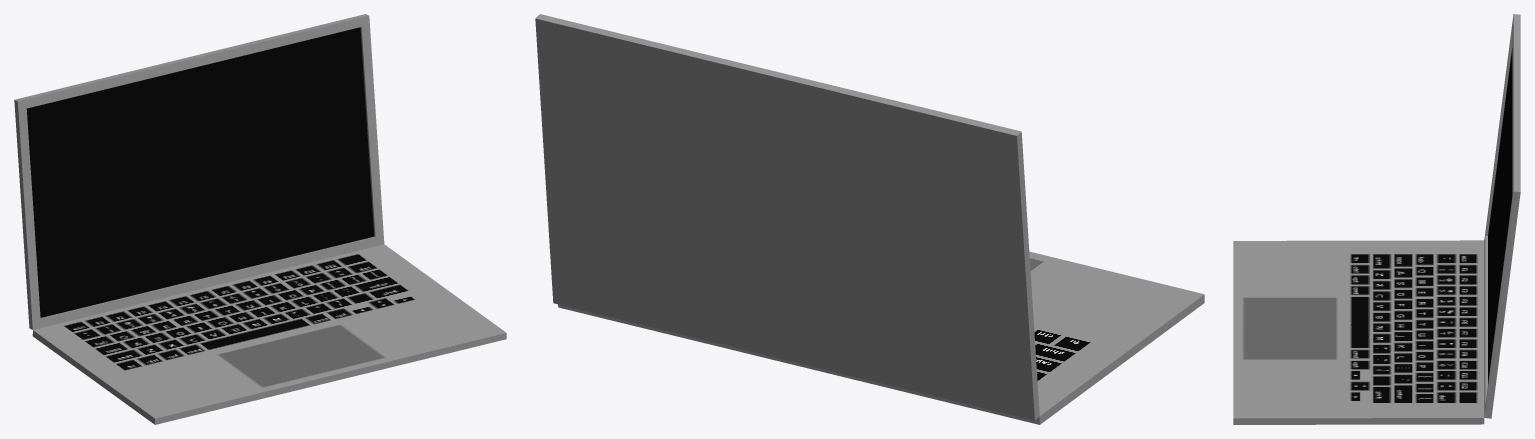
File: laptop.fbx
3 views of the same model, side by side, from view 1: azimuth 30°, elevation 25°; view 2: azimuth 150°, elevation 25°; view 3: azimuth 270°, elevation 25° (orthographic). The views are drawn at different scales.
Parts seen in each view (by area): view 1: top; view 2: top; view 3: top.
Boxes of the visible parts, left/top/right/bottom form: top: left=14, top=14, right=506, bottom=424; top: left=535, top=14, right=1204, bottom=424; top: left=1233, top=14, right=1520, bottom=424.
Bounding box in the file's own units: 66.37 × 40.32 × 45.17.
Materials: 1 (1 with a texture image).
